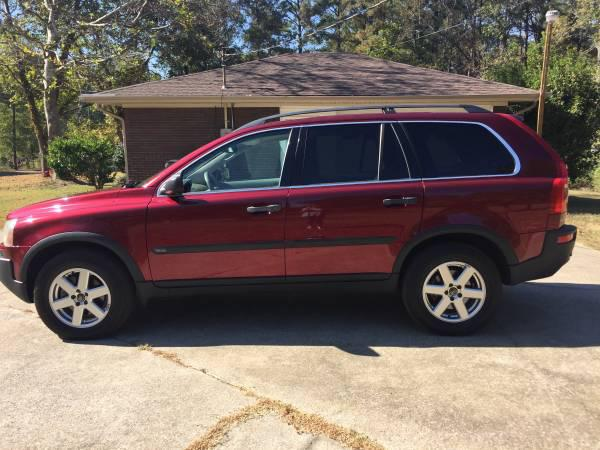volvo: (2, 74, 600, 346)
